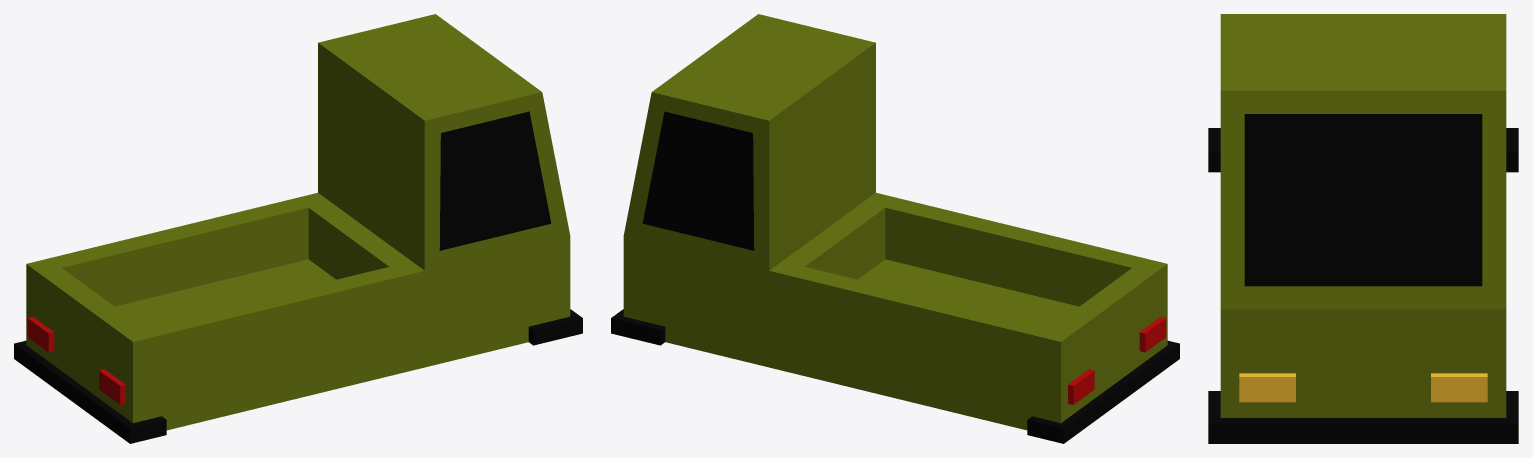
The model's file is CityTruckB_01.fbx.
3 renders of one model, left to right at view 1: azimuth 30°, elevation 25°; view 2: azimuth 150°, elevation 25°; view 3: azimuth 270°, elevation 25°, orthographic. The views are drawn at different scales.
Visible parts, largest first — view 1: CityTruckB_01; view 2: CityTruckB_01; view 3: CityTruckB_01.
Boxes of the visible parts, x1,y1,x2,y2 form: CityTruckB_01: (14, 14, 582, 443); CityTruckB_01: (611, 14, 1179, 443); CityTruckB_01: (1208, 14, 1518, 443).
Bounding box in the file's own units: 0.5913 × 0.308 × 0.2626.
